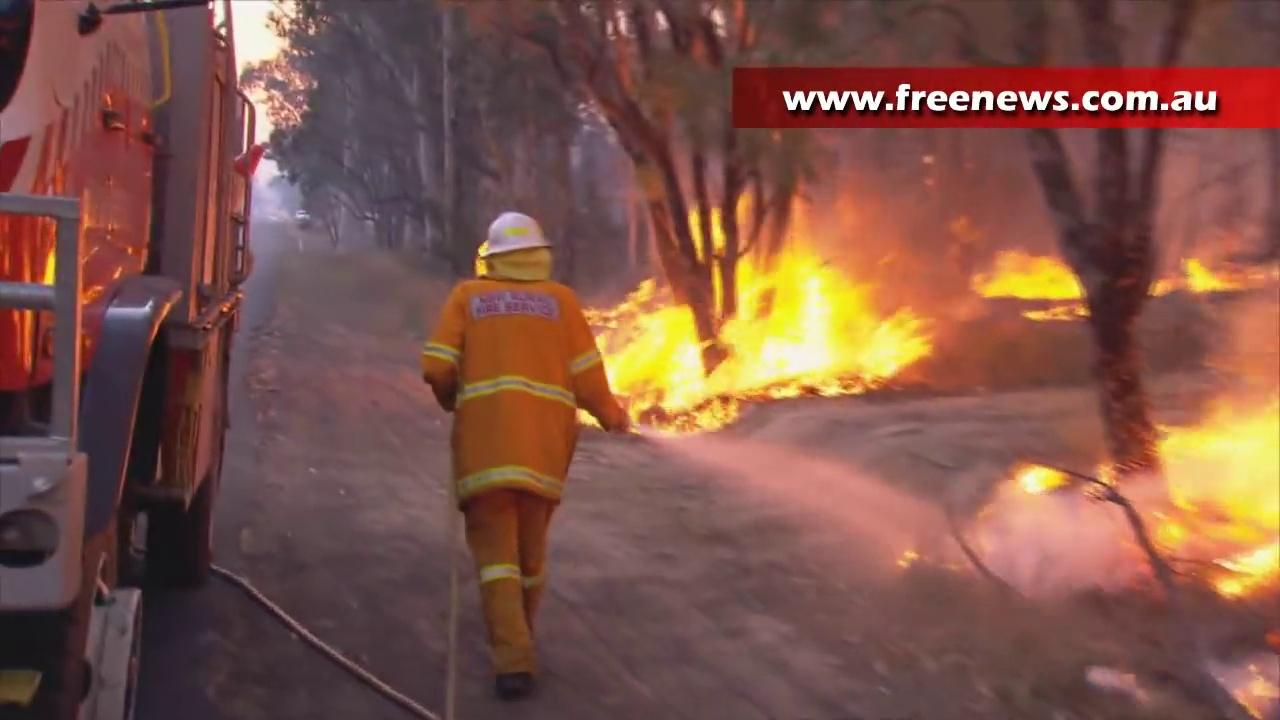fire: (593, 230, 914, 429), (1166, 409, 1280, 582), (975, 242, 1074, 306), (1150, 257, 1230, 299)
